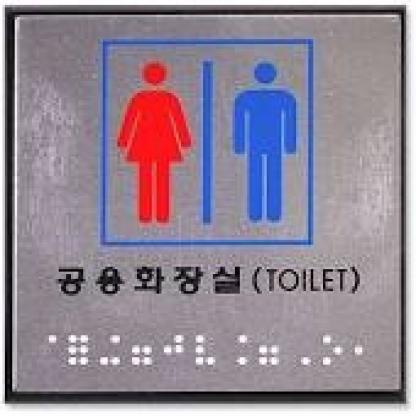toilet: (115, 50, 304, 235)
